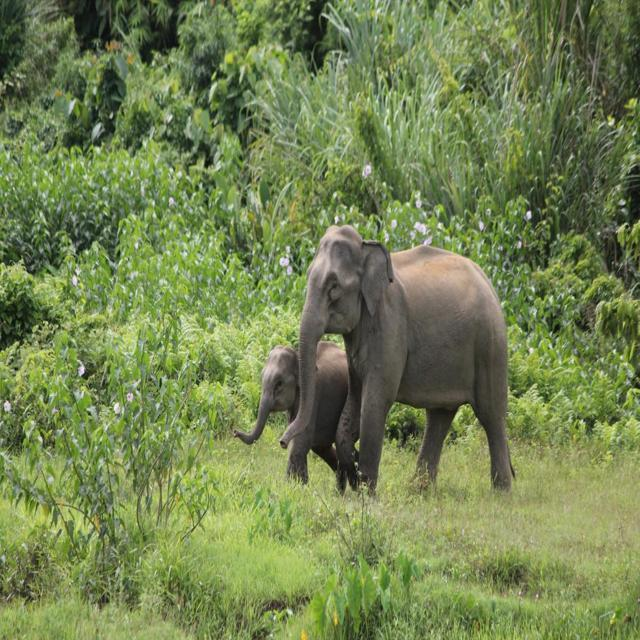Elephant: (286, 197, 554, 512)
